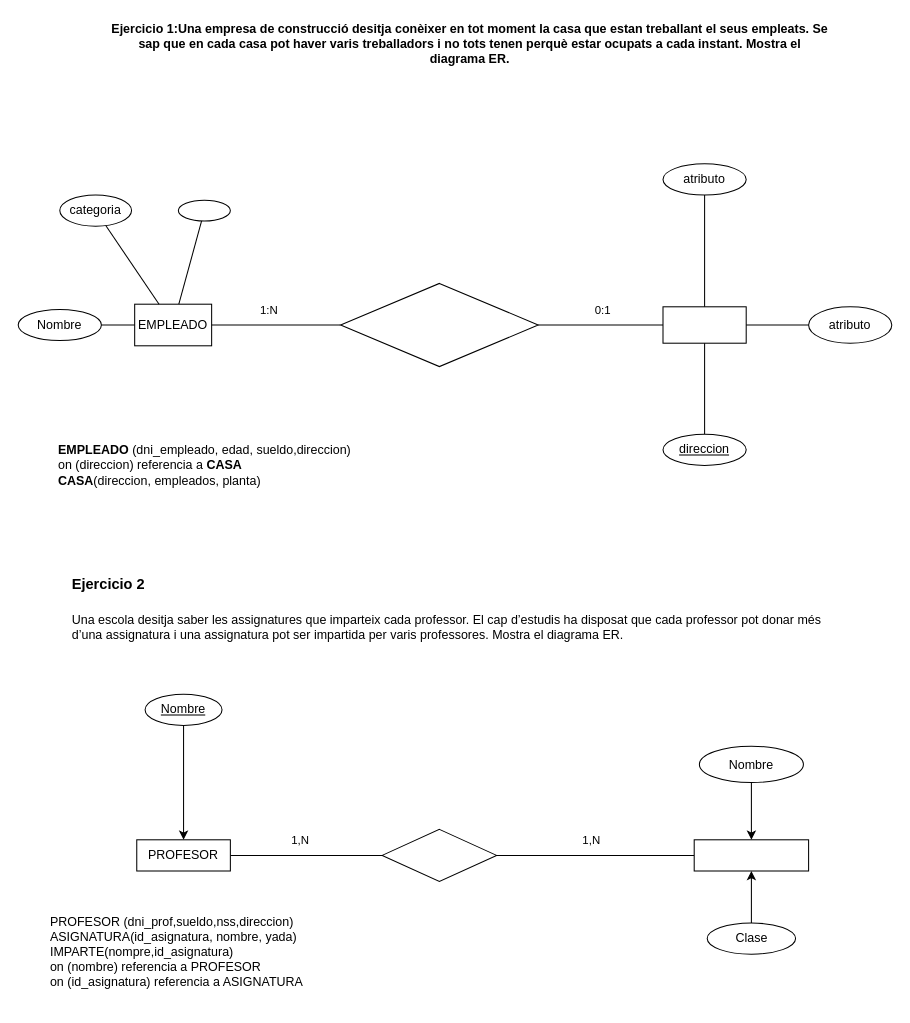
The diagram is 910 pixels wide and 1023 high, and some of its shapes have lost their labels. The shapes that lost their labels are listed below. From the top down, each one's centre as x and y in pixels, then its label:
(203,210): DNI
(439,324): TRABAJA
(704,324): CASA
(439,854): IMPARTE
(751,855): ASIGNATURA
